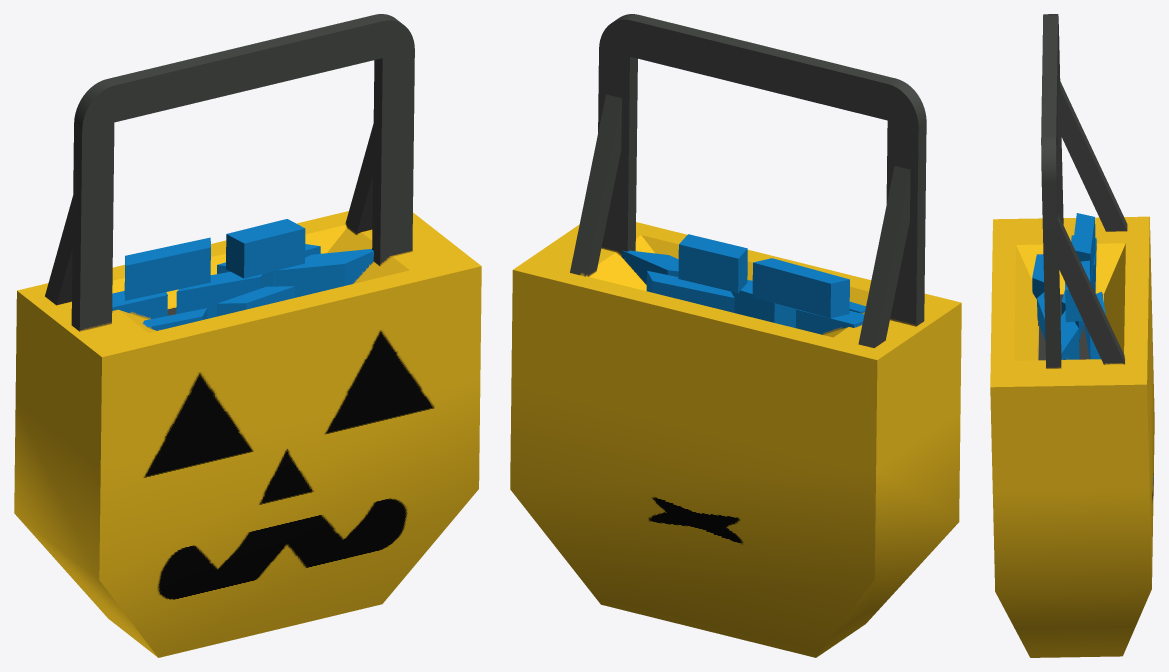
Rendered from CandyBucket.fbx.
The picture shows the model from 3 angles, left to right: view 1: azimuth 30°, elevation 25°; view 2: azimuth 150°, elevation 25°; view 3: azimuth 270°, elevation 25°; orthographic projection. The views are drawn at different scales.
Parts seen in each view (by area): view 1: node_id9 (×2), node_id5, node_id7; view 2: node_id9 (×2), node_id5, node_id7; view 3: node_id9 (×3), node_id5, node_id7.
Part boxes in pixels (x1=…): node_id9 (×2): x1=14, y1=211, x2=481, y2=657; node_id5: x1=45, y1=14, x2=414, y2=331; node_id7: x1=112, y1=219, x2=373, y2=330; node_id9 (×2): x1=510, y1=222, x2=961, y2=657; node_id5: x1=570, y1=14, x2=926, y2=347; node_id7: x1=622, y1=234, x2=865, y2=334; node_id9 (×3): x1=990, y1=216, x2=1154, y2=657; node_id5: x1=1041, y1=14, x2=1127, y2=368; node_id7: x1=1032, y1=213, x2=1105, y2=359.
Bounding box in the file's own units: 0.3523 × 0.5127 × 0.1454.
5 materials, 5 textured.
